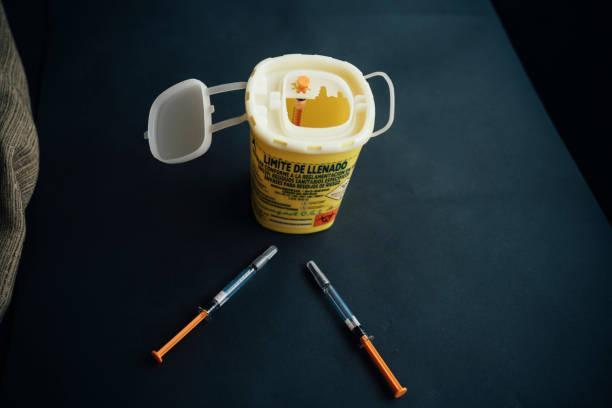Syringe: (152, 246, 277, 362), (306, 261, 406, 397)
